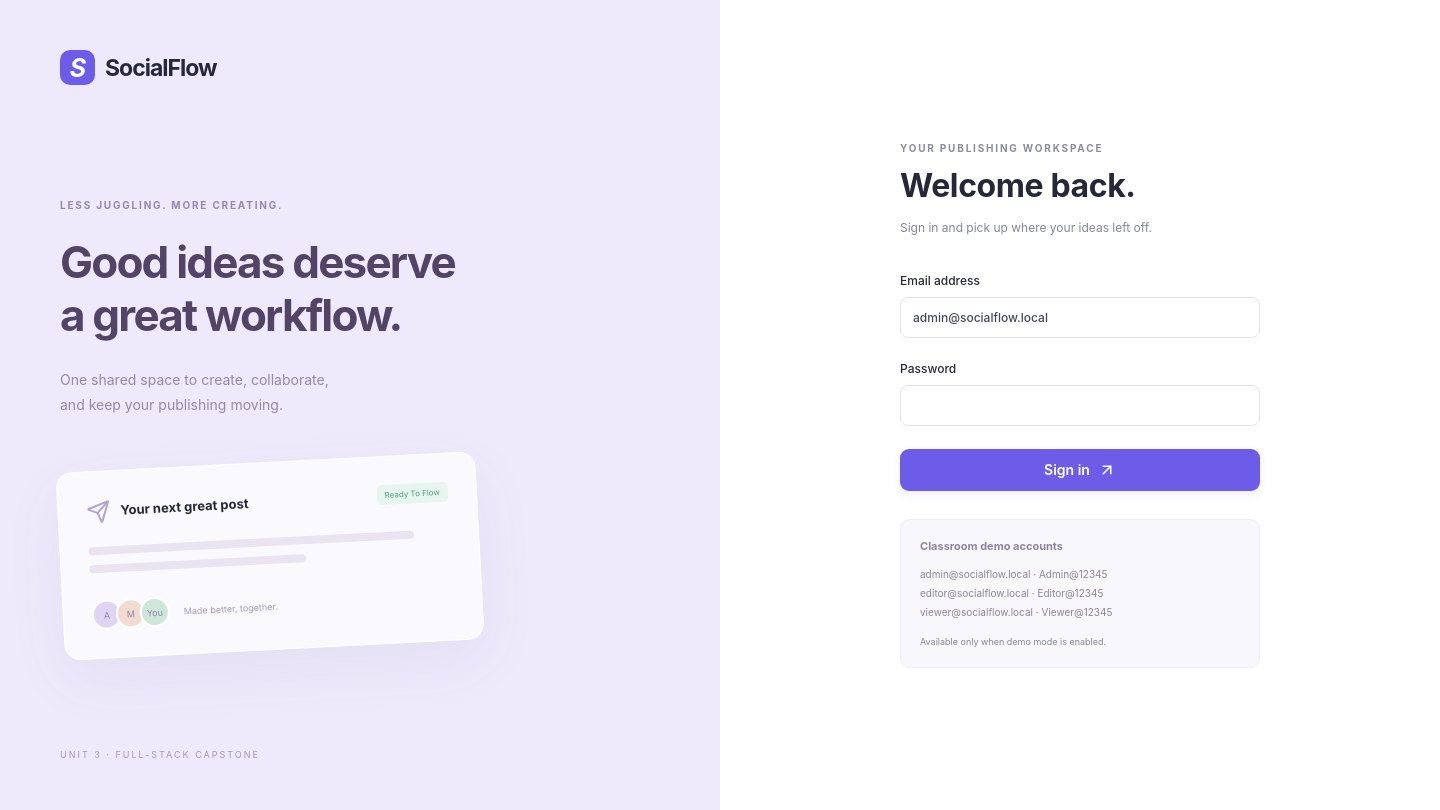
Scenario: Dashboard workflows › restricts viewer composition and returns to login on logout
The width and height of the screenshot is (1440, 810).
Type "Admin@12345" into the password field labelled "Password" at (1080, 405), box [900,385,1260,426]
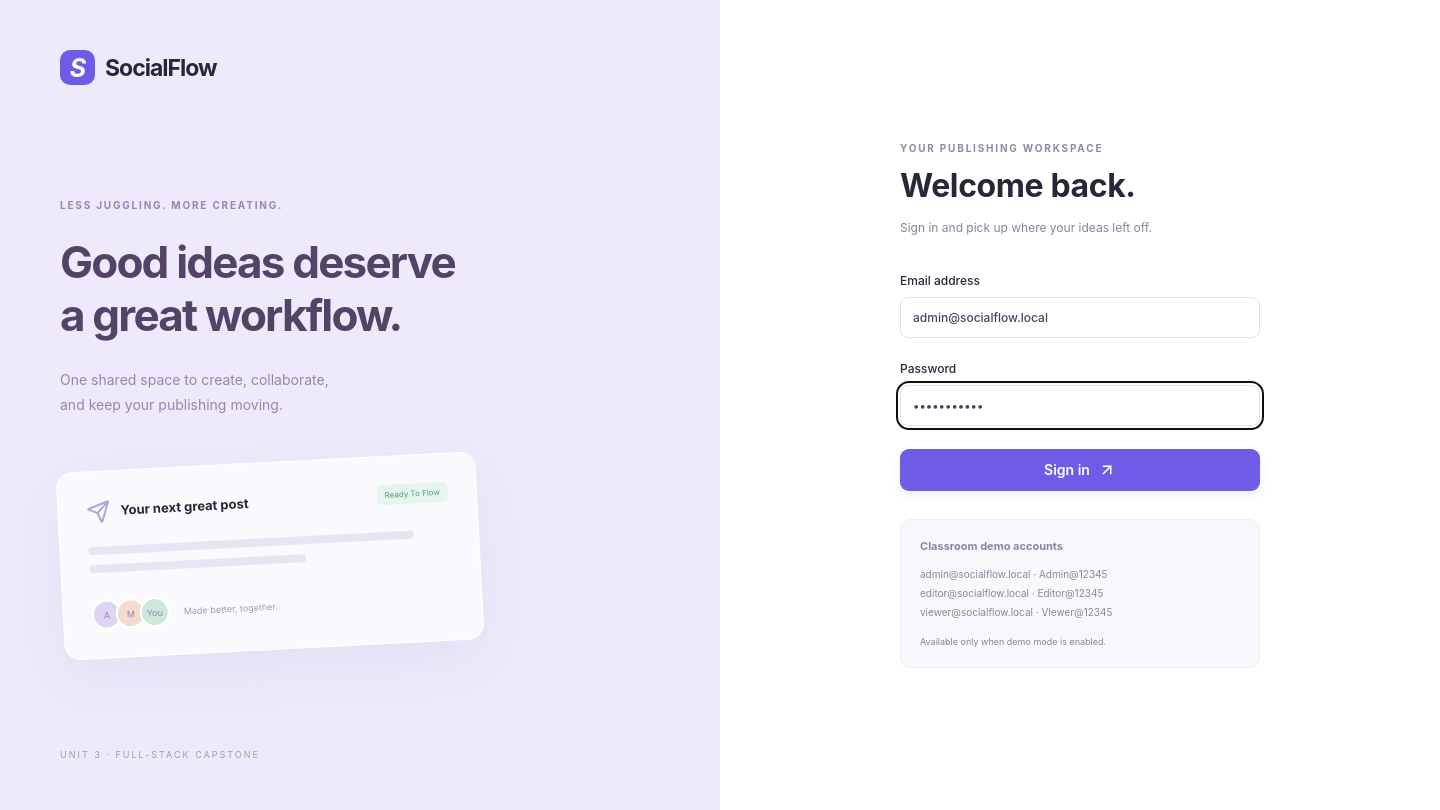
Click the button "Sign in" at (1080, 470), box [900,449,1260,491]
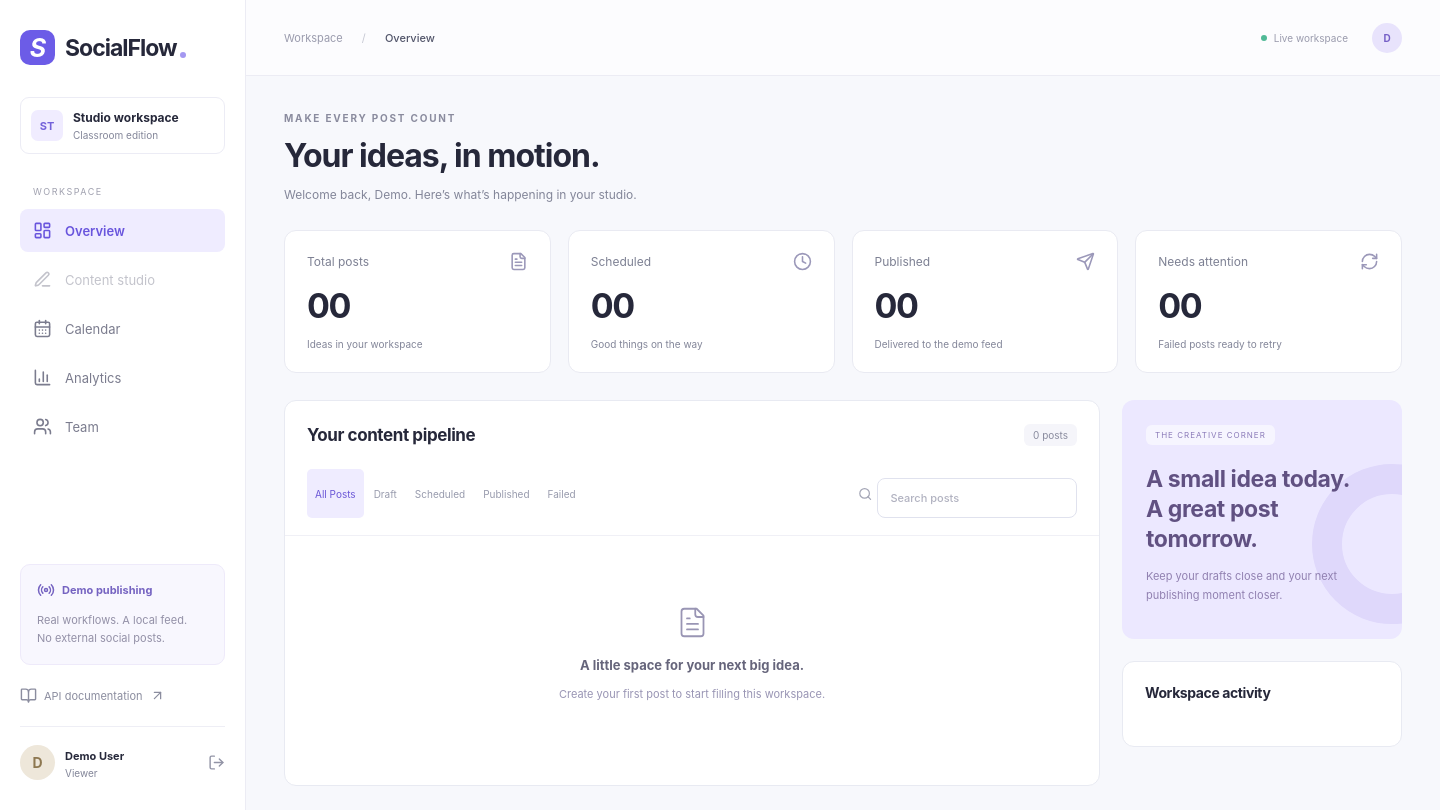
Expected: the heading "Your ideas, in motion." is shown, [284,136,637,175]
Expected: the button "Content studio" is disabled, [20,258,225,301]
Click the button "D Demo User viewer" at (122, 753), box [20,726,225,780]
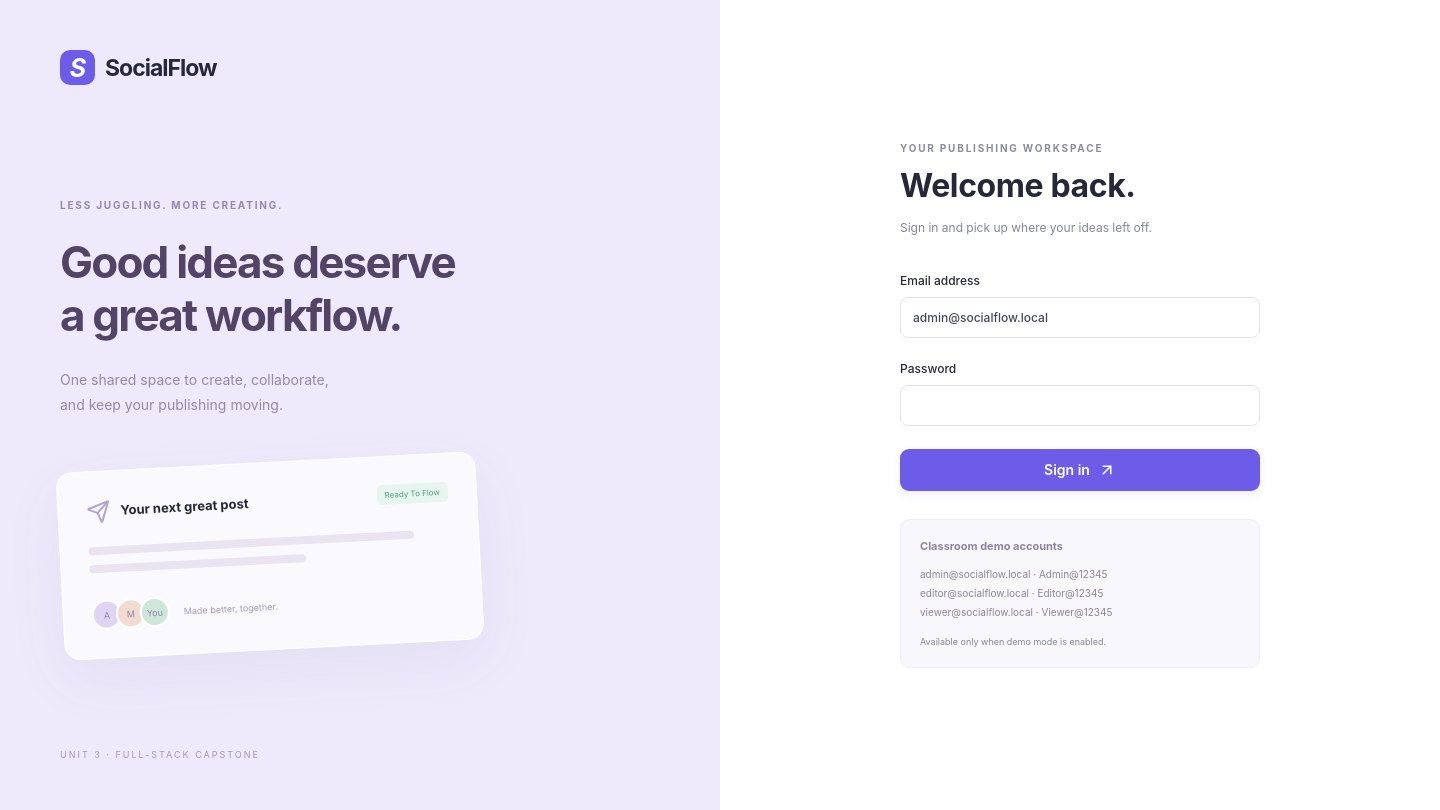
Expected: the heading "Welcome back." is shown, [900,166,1136,205]
